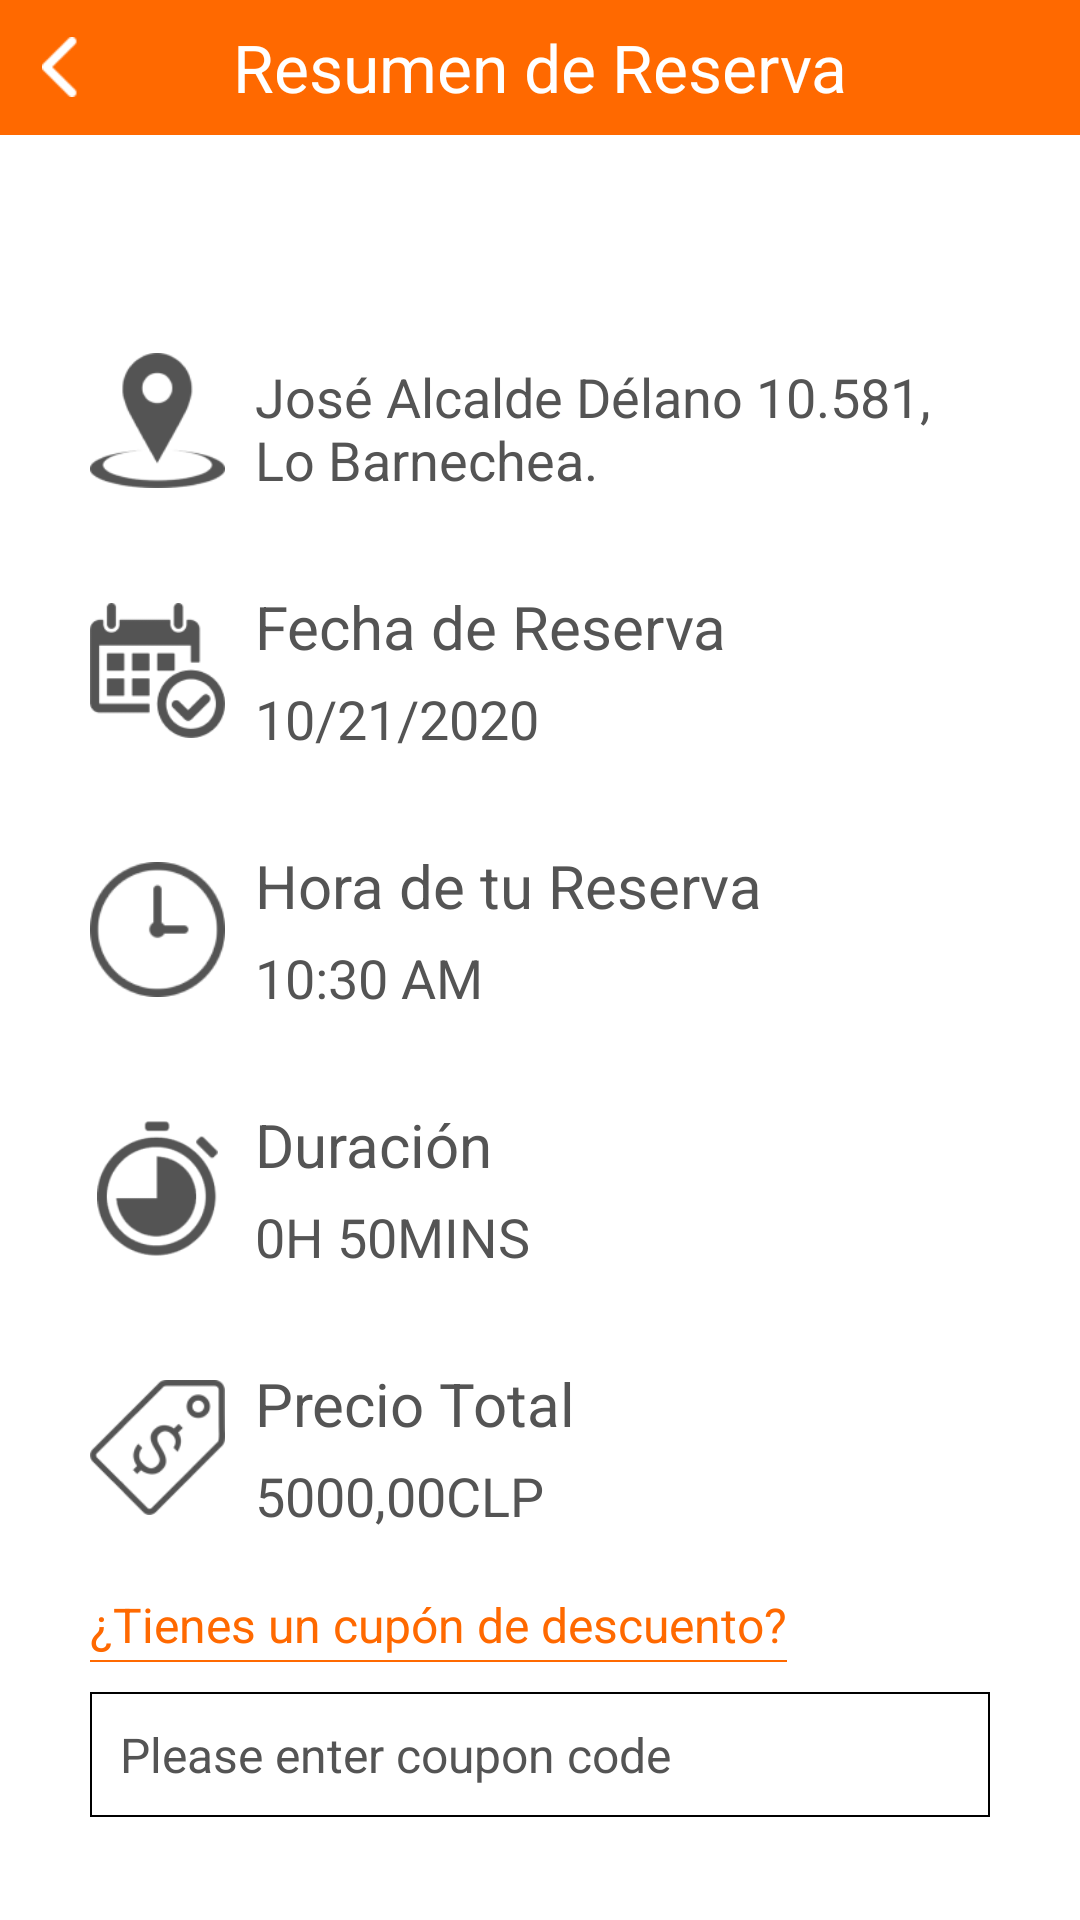

Icon click points for this 1080x1920 phone screenshot, format [x,y]:
back: [59,67]
location: [157,420]
